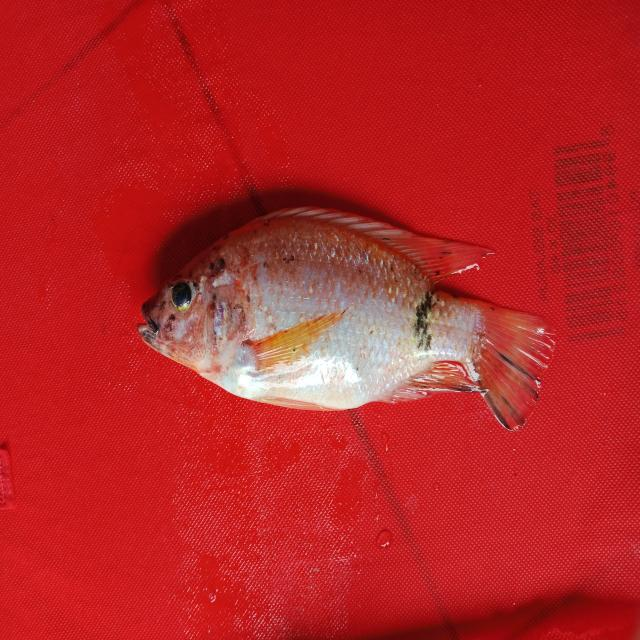ikan: (133, 189, 572, 430)
